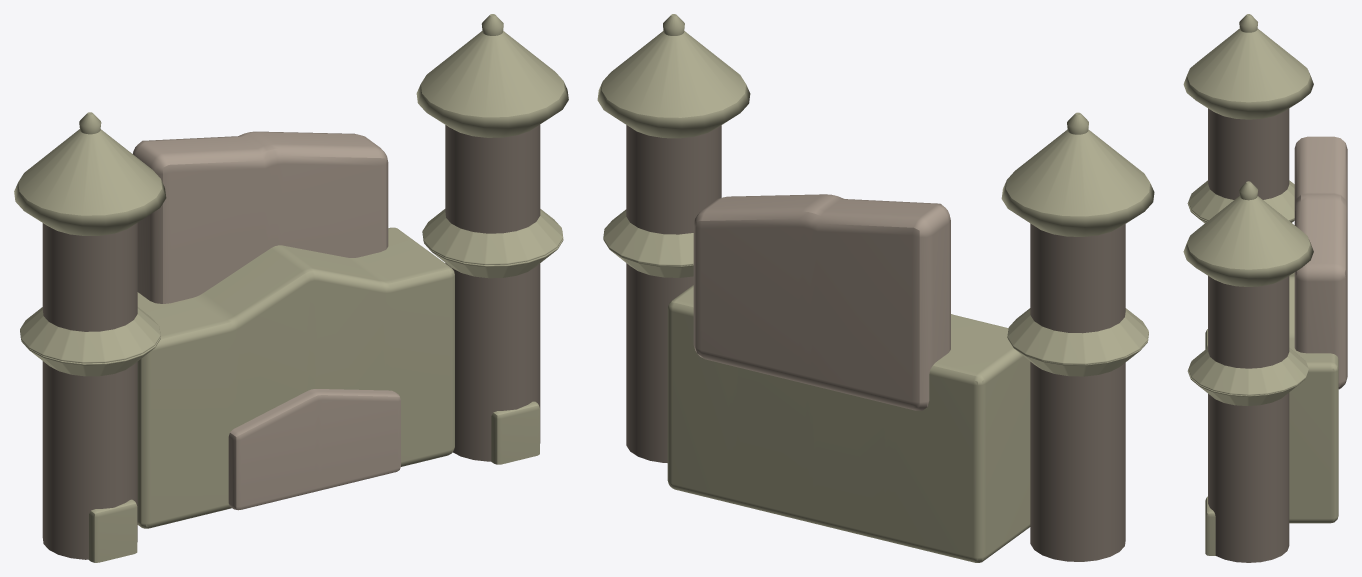
3 renders of one model, left to right at view 1: azimuth 30°, elevation 25°; view 2: azimuth 150°, elevation 25°; view 3: azimuth 270°, elevation 25°, orthographic. The views are drawn at different scales.
Parts seen in each view (by area): view 1: polySurface147; view 2: polySurface147; view 3: polySurface147.
Boxes of the visible parts, left/top/right/bottom form: polySurface147: left=14, top=14, right=568, bottom=562; polySurface147: left=597, top=14, right=1154, bottom=562; polySurface147: left=1183, top=14, right=1347, bottom=562.
Bounding box in the file's own units: 77.17 × 58.79 × 24.03.
